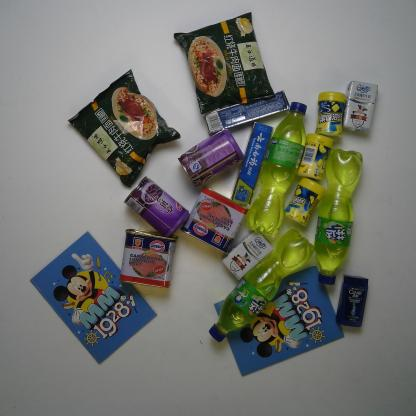Canned Food: (179, 185, 249, 255), (123, 175, 191, 239), (178, 128, 245, 189), (118, 229, 178, 289)
Drink: (208, 229, 315, 343), (247, 101, 309, 237), (313, 146, 363, 285)
Gum: (285, 176, 326, 227), (296, 133, 336, 180), (314, 90, 348, 139)
Instant Noodles: (65, 68, 183, 188), (173, 12, 275, 116)
Milk: (222, 229, 274, 282), (344, 81, 380, 134)
Personal Hygiene: (203, 90, 292, 137), (228, 121, 275, 206), (336, 274, 369, 327)
Stationery: (29, 232, 158, 364), (212, 264, 345, 376)
